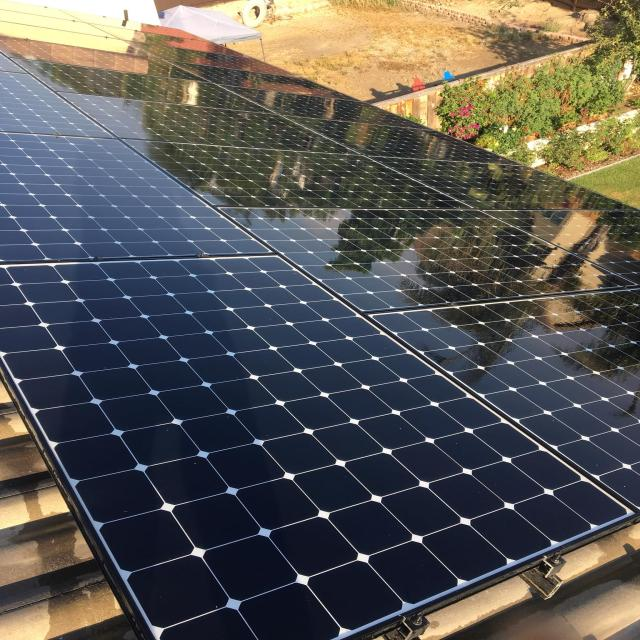clean-solar-panel: (2, 28, 638, 640)
